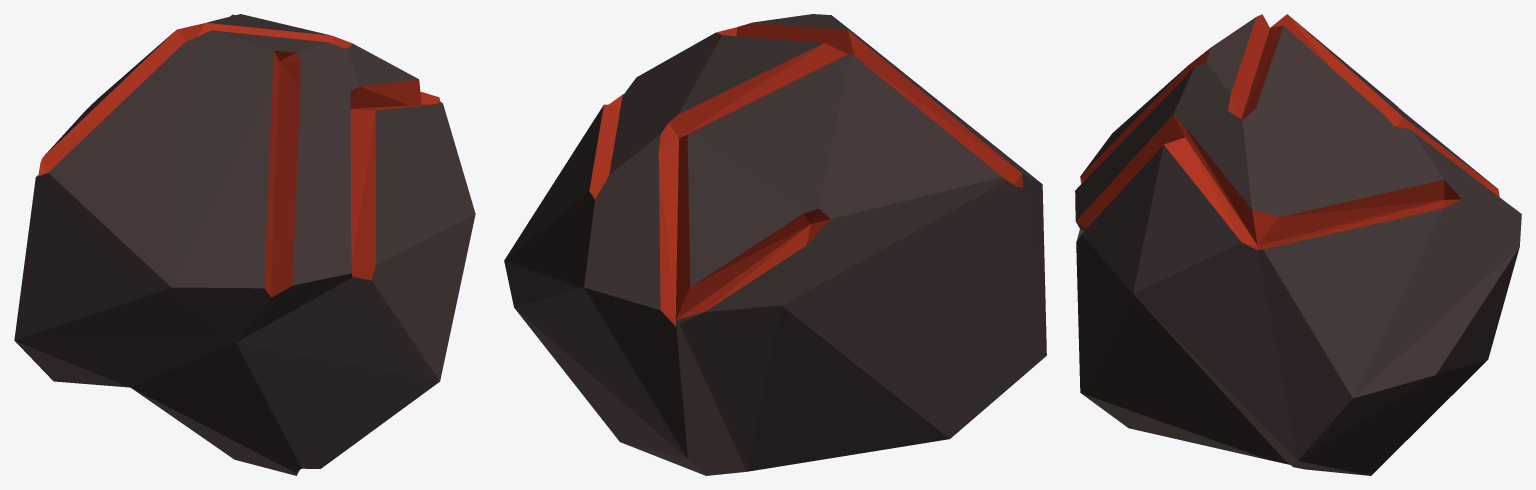
The model's file is SteamRock.FBX.
The picture shows the model from 3 angles, left to right: view 1: azimuth 30°, elevation 25°; view 2: azimuth 150°, elevation 25°; view 3: azimuth 270°, elevation 25°; orthographic projection. The views are drawn at different scales.
Parts seen in each view (by area): view 1: SteamRock; view 2: SteamRock; view 3: SteamRock.
Part boxes in pixels (x1,y1,x2,y2): SteamRock: (14, 14, 475, 475); SteamRock: (504, 14, 1046, 475); SteamRock: (1075, 14, 1521, 475).
Bounding box in the file's own units: 38.31 × 32.35 × 31.99.
